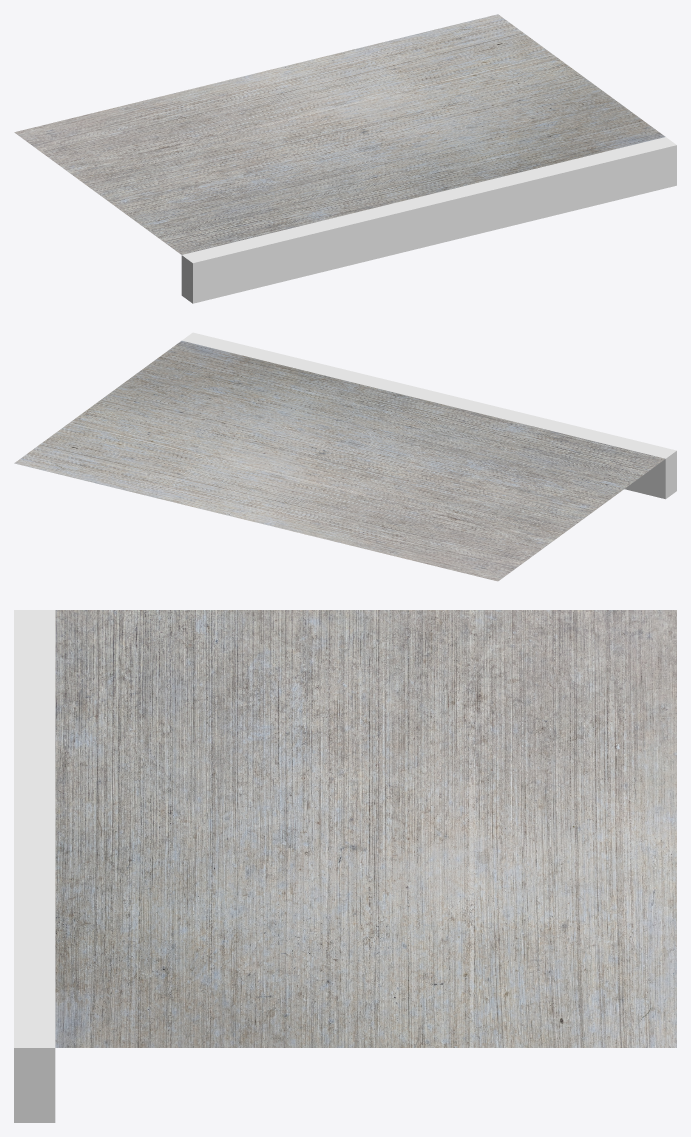
Rendered from piso.fbx.
3 views of the same model, one above another, from view 1: azimuth 30°, elevation 25°; view 2: azimuth 150°, elevation 25°; view 3: azimuth 270°, elevation 25° (orthographic). The views are drawn at different scales.
Parts seen in each view (by area): view 1: piso, blanco; view 2: piso, blanco; view 3: piso, blanco.
Boxes of the visible parts, box(x1,y1,x2,y2) form: piso: box(14, 14, 665, 254); blanco: box(181, 137, 676, 303); piso: box(14, 340, 665, 581); blanco: box(182, 332, 676, 499); piso: box(55, 610, 676, 1047); blanco: box(14, 610, 55, 1122).
Size of the model in its own units: 250 by 20 by 160.
